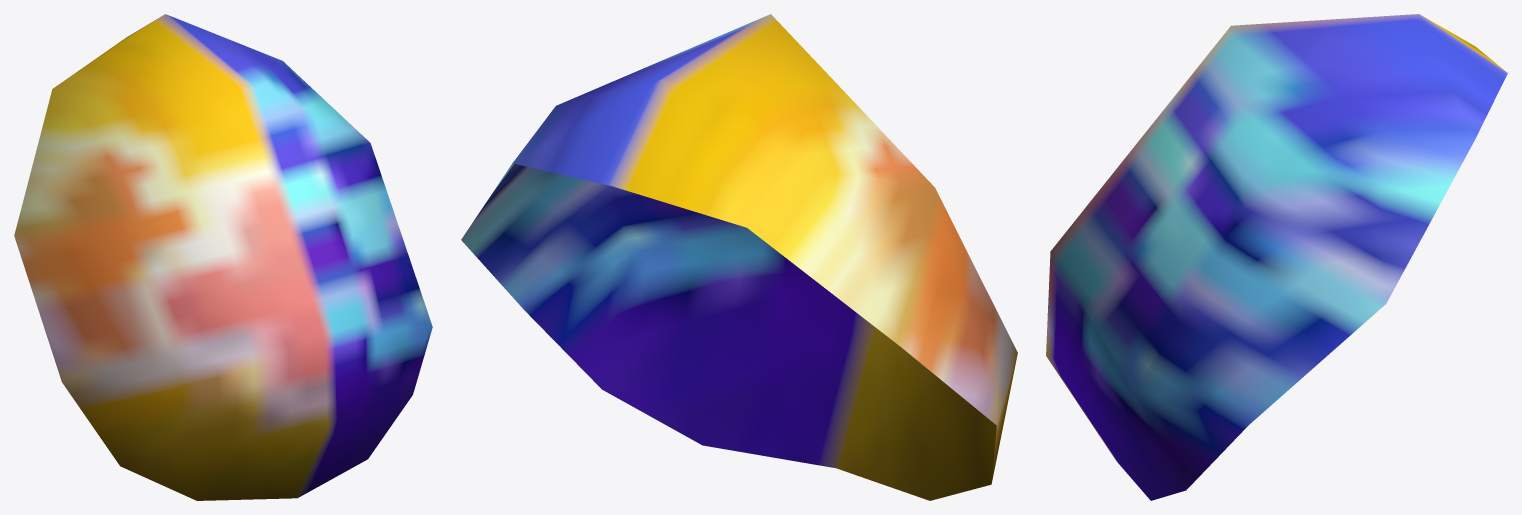
The model's file is fg_egg0_out.dae.
The picture shows the model from 3 angles, left to right: view 1: azimuth 30°, elevation 25°; view 2: azimuth 150°, elevation 25°; view 3: azimuth 270°, elevation 25°; orthographic projection. The views are drawn at different scales.
Visible parts, largest first — view 1: fg_egg0_out; view 2: fg_egg0_out; view 3: fg_egg0_out.
Boxes of the visible parts, x1,y1,x2,y2 form: fg_egg0_out: (14,14,432,500); fg_egg0_out: (461,14,1017,500); fg_egg0_out: (1046,14,1507,500).
Size of the model in its own units: 11.35 by 11.86 by 11.11.
Materials: 1 (1 with a texture image).
